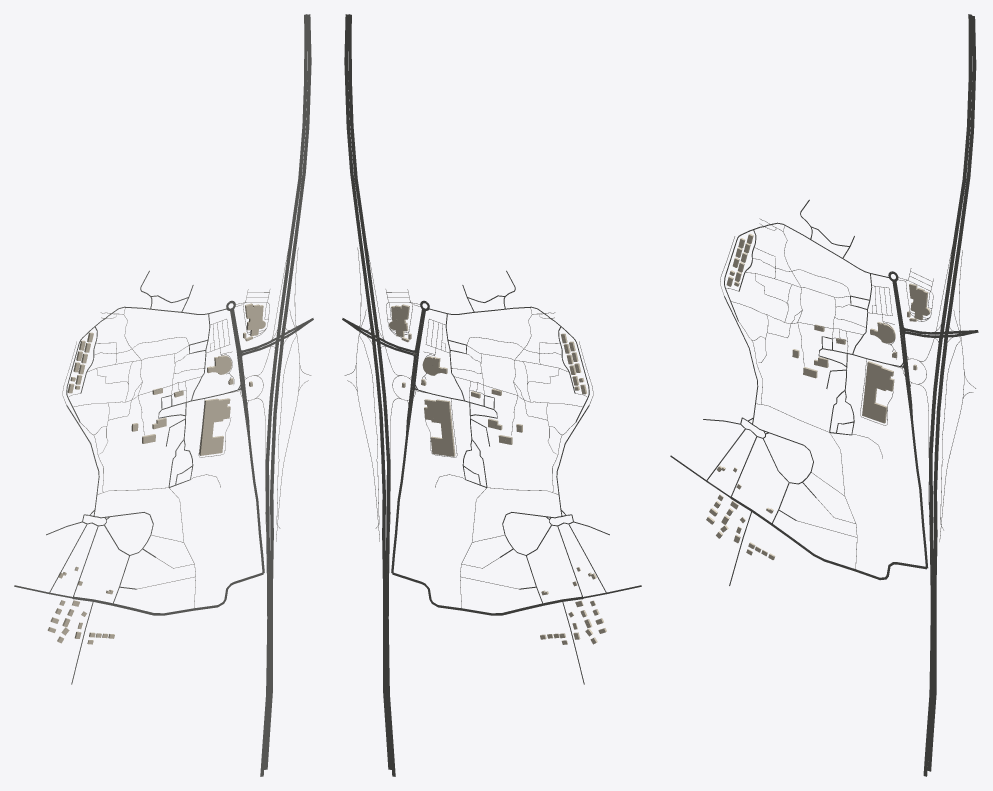
Rendered from historic-palestine-07_29_3490_3235.glb.
3 views of the same model, side by side, from view 1: azimuth 30°, elevation 25°; view 2: azimuth 150°, elevation 25°; view 3: azimuth 330°, elevation 25° (orthographic). The views are drawn at different scales.
Visible parts, largest first — view 1: Road כביש חיפה רעננה, Road כביש חיפה רעננה.001, Building_.016; view 2: Road כביש חיפה רעננה, Road כביש חיפה רעננה.001, Building_.016; view 3: Road כביש חיפה רעננה, Road כביש חיפה רעננה.001, Building_.016.
Part boxes in pixels (x1,y1,x2,y2): Road כביש חיפה רעננה: [260, 14, 307, 776]; Road כביש חיפה רעננה.001: [264, 14, 311, 769]; Building_.016: [199, 398, 230, 455]; Road כביש חיפה רעננה: [348, 14, 395, 776]; Road כביש חיפה רעננה.001: [344, 14, 391, 769]; Building_.016: [424, 399, 455, 456]; Road כביש חיפה רעננה: [923, 14, 972, 776]; Road כביש חיפה רעננה.001: [927, 15, 976, 771]; Building_.016: [862, 361, 894, 423].
Size of the model in its own units: 1029 by 2464 by 8.7.
